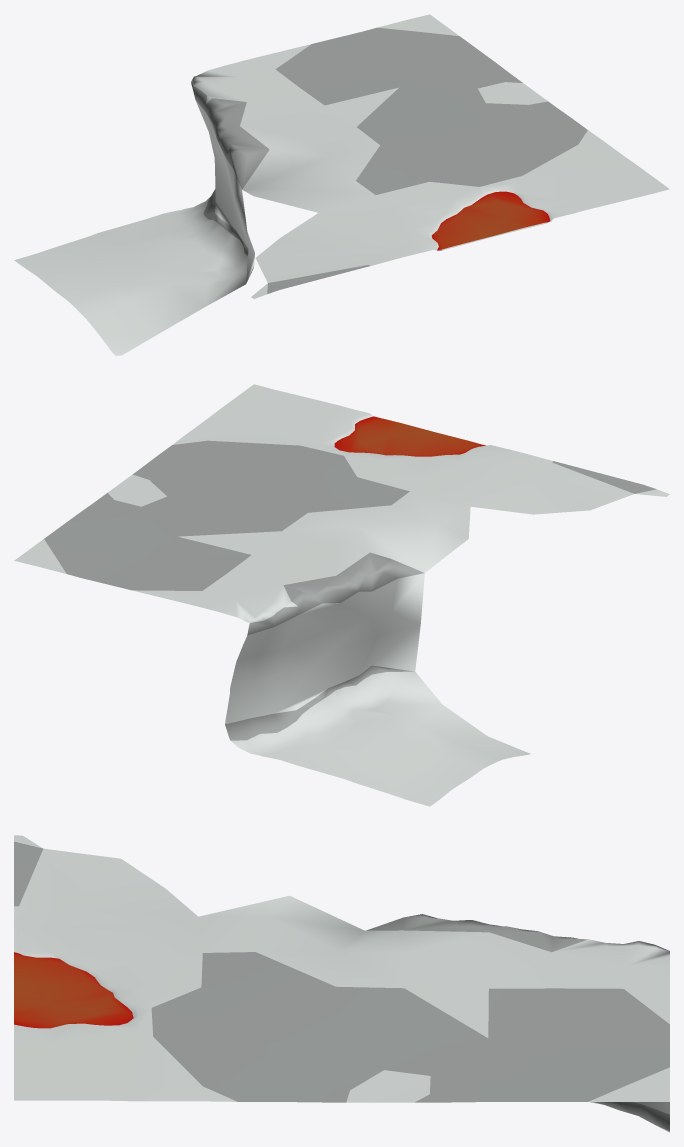
The picture shows the model from 3 angles, top to bottom: view 1: azimuth 30°, elevation 25°; view 2: azimuth 150°, elevation 25°; view 3: azimuth 270°, elevation 25°; orthographic projection. The views are drawn at different scales.
Visible parts, largest first — view 1: G:\FFXIV-MapTools\exports\r2f1\bg\ex1\01_roc_r2\fld\r2f1\bgp (×6); view 2: G:\FFXIV-MapTools\exports\r2f1\bg\ex1\01_roc_r2\fld\r2f1\bgp (×6); view 3: G:\FFXIV-MapTools\exports\r2f1\bg\ex1\01_roc_r2\fld\r2f1\bgp (×5).
Boxes of the visible parts, x1,y1,x2,y2 form: G:\FFXIV-MapTools\exports\r2f1\bg\ex1\01_roc_r2\fld\r2f1\bgp (×6): (14, 14, 669, 355); G:\FFXIV-MapTools\exports\r2f1\bg\ex1\01_roc_r2\fld\r2f1\bgp (×6): (14, 384, 669, 806); G:\FFXIV-MapTools\exports\r2f1\bg\ex1\01_roc_r2\fld\r2f1\bgp (×5): (14, 835, 669, 1132).
Size of the model in its own units: 128 by 49.12 by 128.
